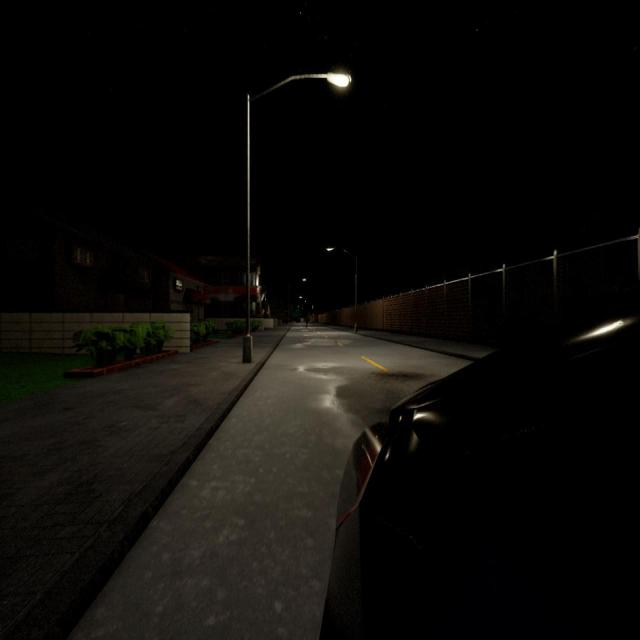Pedestrian: (304, 314, 310, 329)
Vehicle: (320, 286, 640, 638)
traffic_light: (312, 314, 314, 318)
